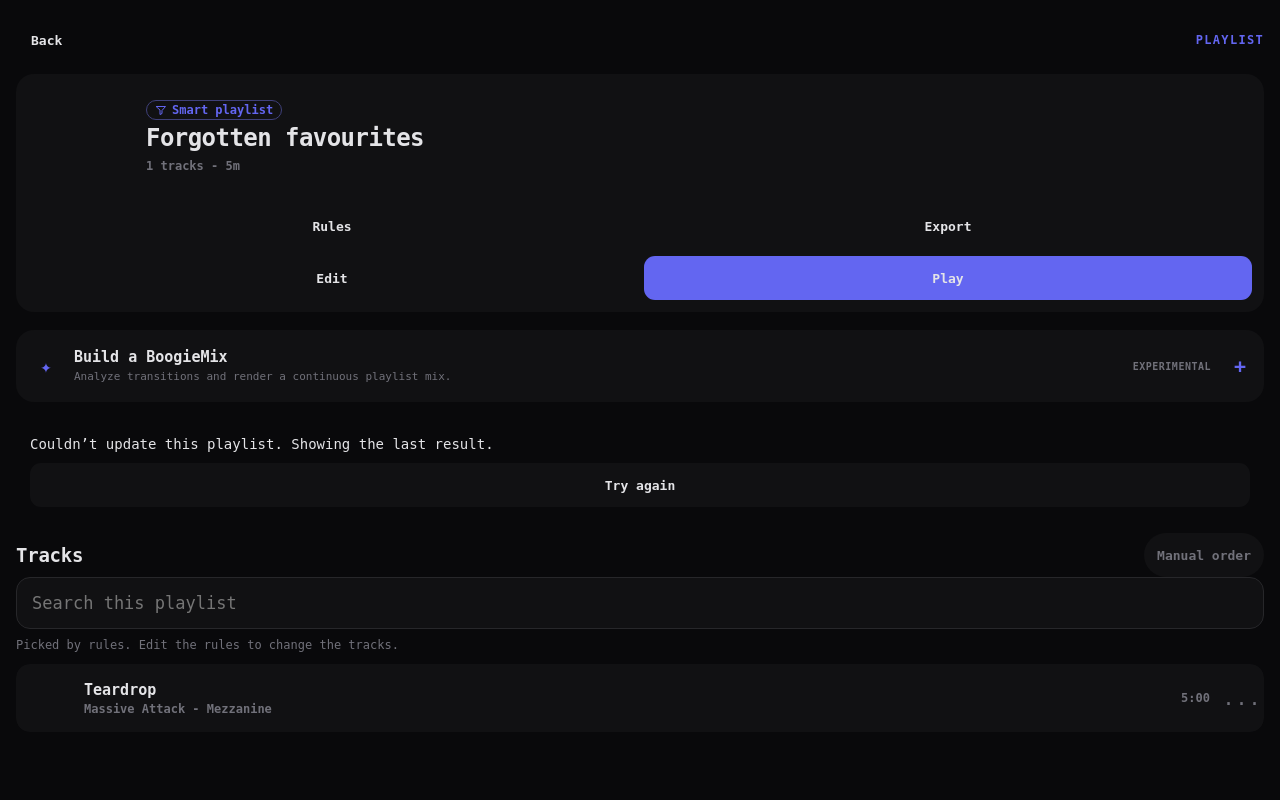
Test case: MobilePlaylistsView smart playlists › keeps the last result when a refresh fails and retries on request
Expected: the message shows "Couldn’t update this playlist. Showing the last result.", [30,436,494,452]
Expected: the button with aria-label "Play Teardrop" is shown, [16,664,1220,732]
Click the button "Try again" at x=640, y=485, box [30,463,1250,507]
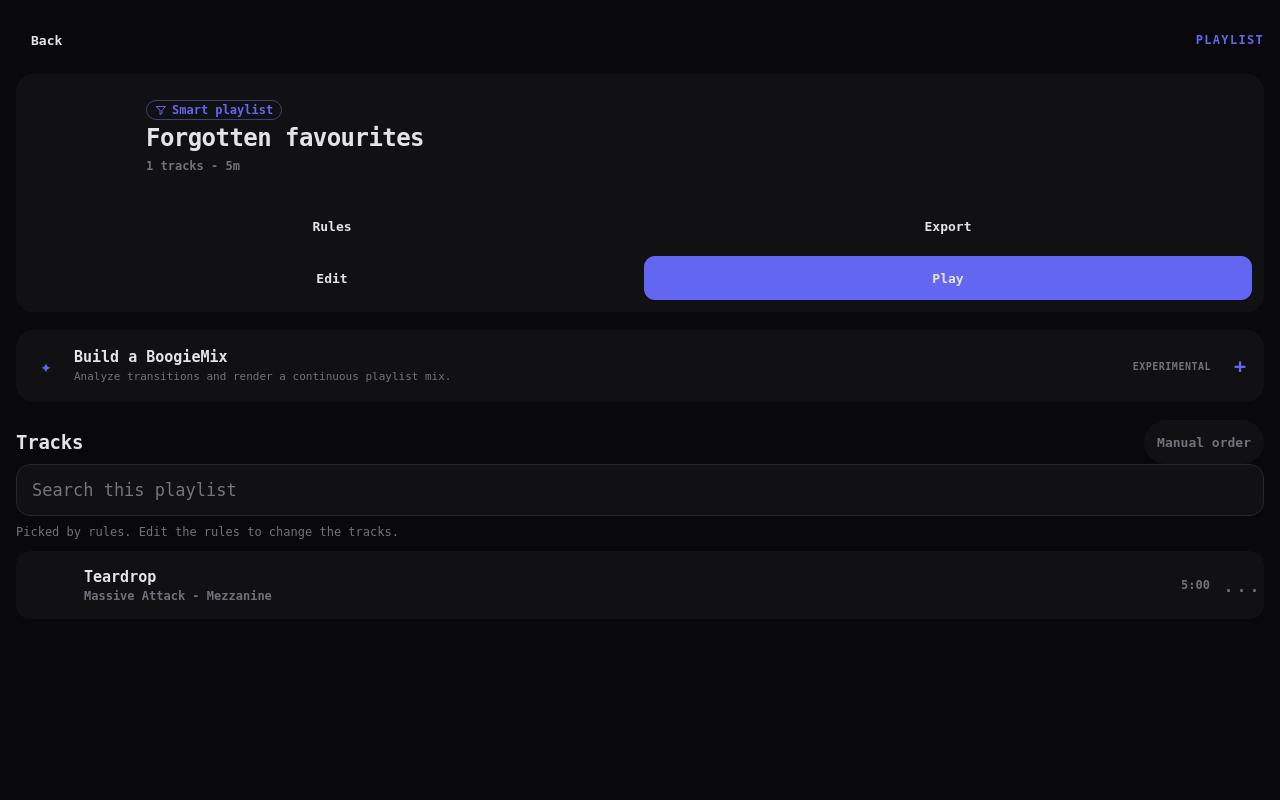
Expected: the message "Couldn’t update this playlist. Showing the last result. Try again" is gone
